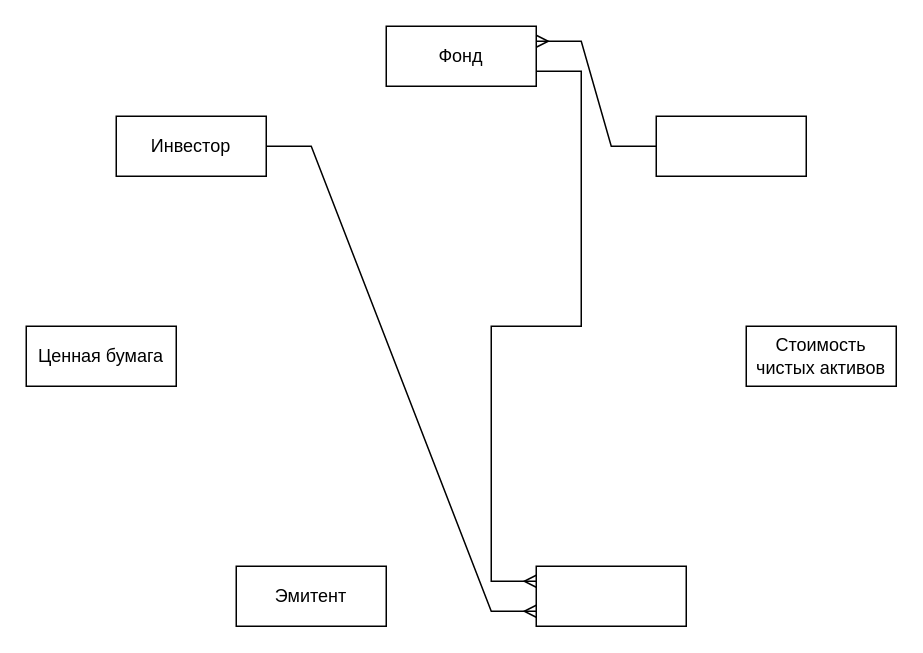
The diagram is 923 pixels wide and 653 high, and some of its shapes have lost their labels. The shapes that lost their labels are listed below. From the top down, each one's centre as x and y in pixels, then its label:
At (730,145): "Вид фонда".
At (610,595): "Позиция инвестора".
